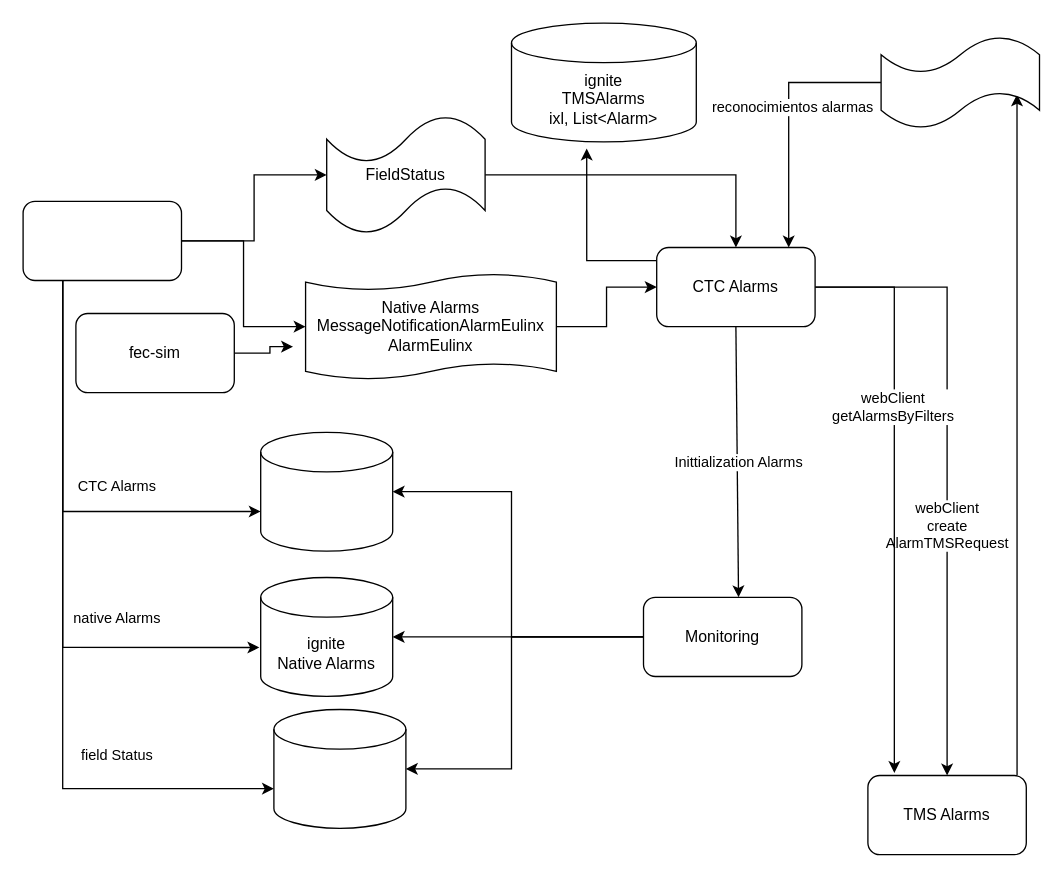
Some shapes in this 1063 by 878 pixel diagram are drawn without their labels. The centre of each missing label's shape, as x and y in pixels:
AlarmTms: point 960,82
FEC: point 102,240
ignite CTC Alarms: point 326,491
ignite FieldSTatus: point 339,768
